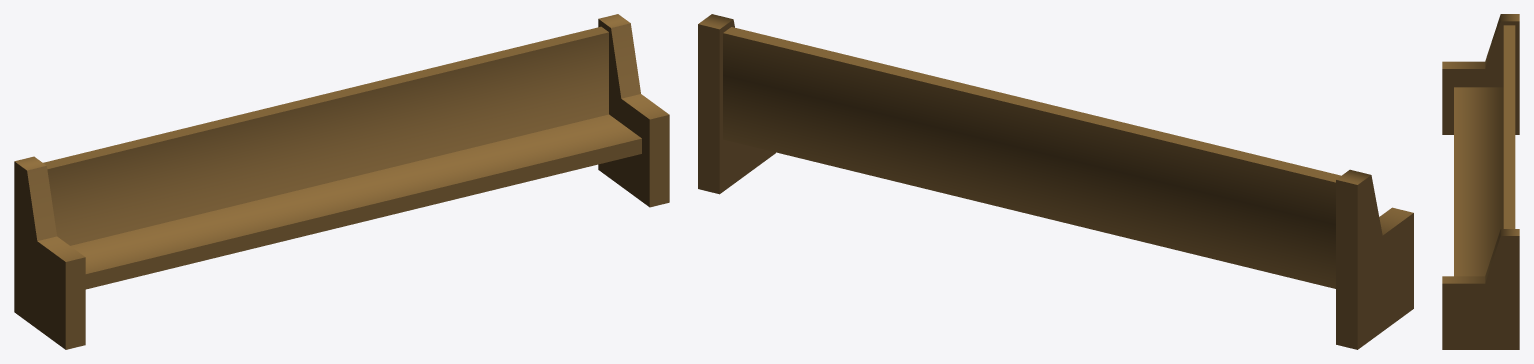
File: AI_Prop_Church_Pew.fbx
3 views of the same model, side by side, from view 1: azimuth 30°, elevation 25°; view 2: azimuth 150°, elevation 25°; view 3: azimuth 270°, elevation 25° (orthographic). The views are drawn at different scales.
Parts seen in each view (by area): view 1: AI_Prop_Church_Pew; view 2: AI_Prop_Church_Pew; view 3: AI_Prop_Church_Pew.
Part boxes in pixels (left/top/right/bottom): AI_Prop_Church_Pew: left=14, top=14, right=669, bottom=349; AI_Prop_Church_Pew: left=698, top=14, right=1413, bottom=349; AI_Prop_Church_Pew: left=1442, top=14, right=1519, bottom=349.
Size of the model in its own units: 4.18 by 1 by 0.6174.
